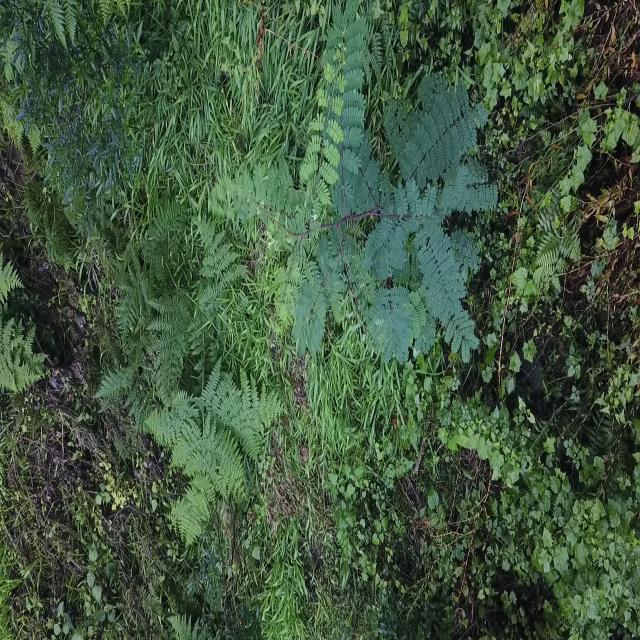Mysore-Thorn-Weed: (225, 0, 493, 380)
